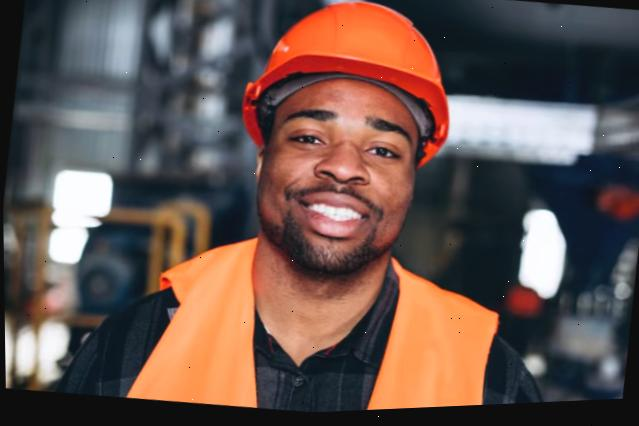helmet: (217, 0, 494, 162)
vest: (98, 212, 522, 423)
